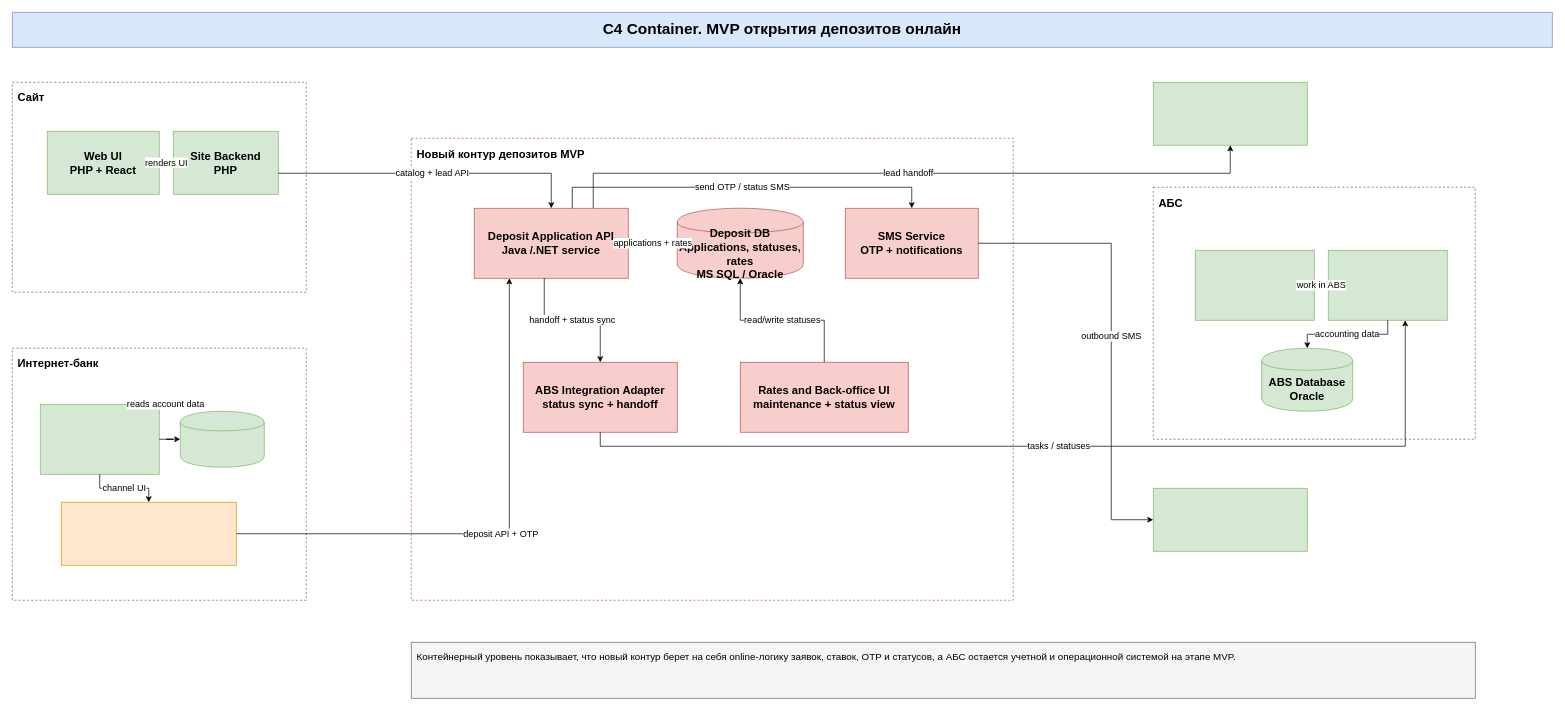
This 1565x711 diagram has some shape labels left out. The shapes that lost their labels are listed below. From the top down, each one's centre as x and y in pixels, then its label:
(x=1230, y=113): Система кол-центра
(x=1254, y=285): ABS Desktop Client Delphi
(x=1387, y=285): ABS Business Logic PL/SQL procedures
(x=99, y=439): Web Monolith ASP.NET MVC 4.5
(x=222, y=439): IB Database MS SQL
(x=148, y=533): Deposit Channel Module UI + API Client
(x=1230, y=519): СМС-шлюз
